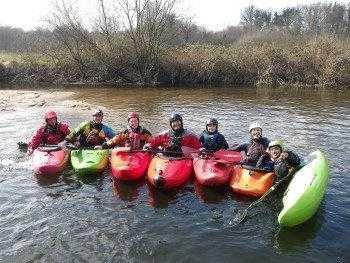kayak: (193, 145, 318, 209), (146, 154, 194, 191), (110, 148, 151, 183), (193, 156, 240, 186), (32, 146, 71, 177), (70, 148, 112, 175)
